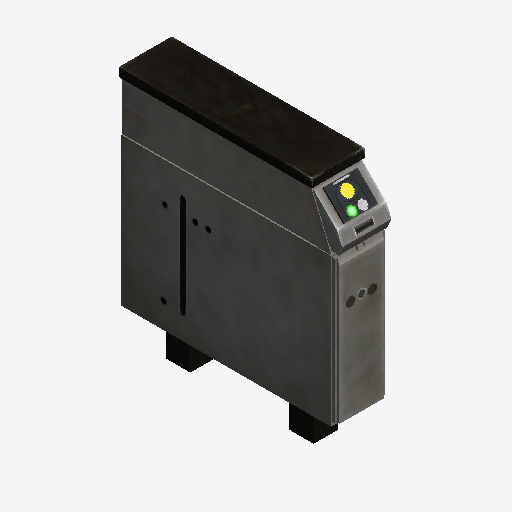
A Minecraft block model of 16 cuboids, rendered isometrically (azimuth 45°, elevation 35.3°) with the resource pack's own textures.
Parts seen in each view (by area): element 7, крышка, element 10, element 13, element 14, element 5, element 3, element 2, element 9, ножка1, ножка 2, element 6 (+1 smaller).
Boxes of the visible parts, box(x1,y1,x2,y2) form: element 7: box(121, 134, 336, 426); крышка: box(119, 37, 364, 187); element 10: box(337, 240, 383, 423); element 13: box(122, 106, 317, 246); element 14: box(122, 84, 306, 211); element 5: box(323, 168, 377, 223); element 3: box(313, 162, 385, 229); element 2: box(324, 202, 390, 246); element 9: box(332, 230, 384, 422); ножка1: box(289, 403, 337, 443); ножка 2: box(166, 332, 212, 371); element 6: box(298, 160, 362, 254).
Bounding box in the file's own units: 5.25 × 24.03 × 21.91.